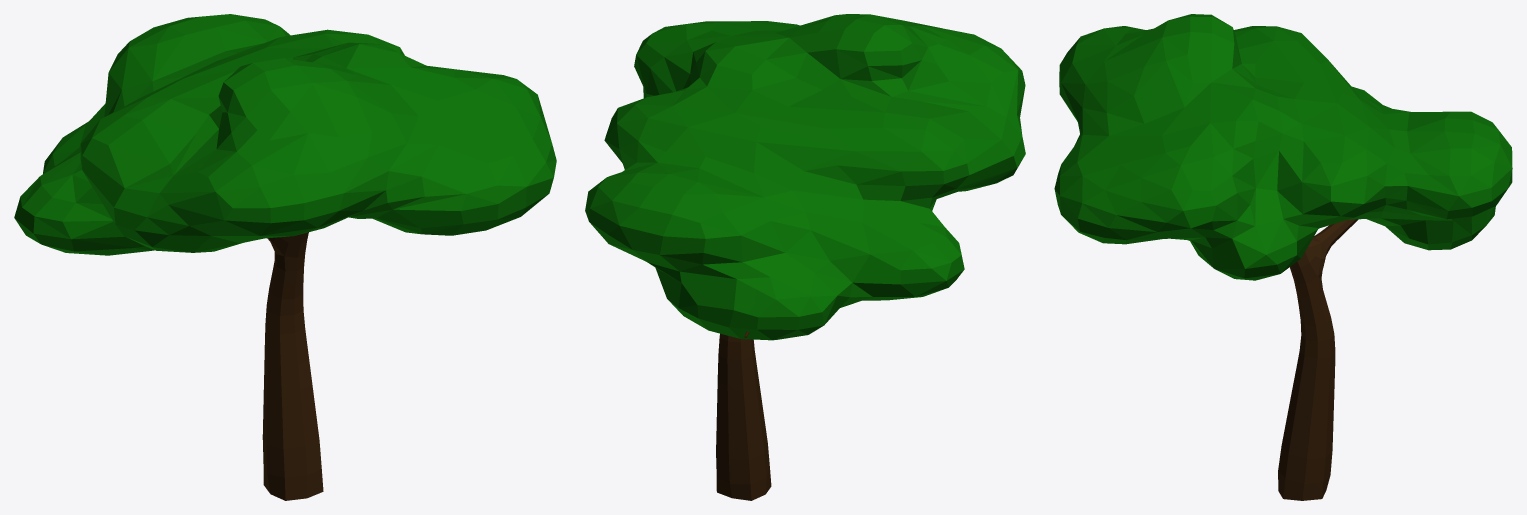
File: arbre.obj
3 renders of one model, left to right at view 1: azimuth 30°, elevation 25°; view 2: azimuth 150°, elevation 25°; view 3: azimuth 270°, elevation 25°, orthographic. The views are drawn at different scales.
Parts seen in each view (by area): view 1: Mball.015_Mesh, Cube_Cube.001; view 2: Mball.015_Mesh, Cube_Cube.001; view 3: Mball.015_Mesh, Cube_Cube.001.
Boxes of the visible parts, x1,y1,x2,y2 form: Mball.015_Mesh: (14, 14, 556, 255); Cube_Cube.001: (262, 232, 323, 500); Mball.015_Mesh: (585, 14, 1025, 340); Cube_Cube.001: (716, 331, 771, 500); Mball.015_Mesh: (1054, 14, 1512, 280); Cube_Cube.001: (1278, 219, 1358, 500).
Size of the model in its own units: 5.44 by 5.89 by 5.63.
